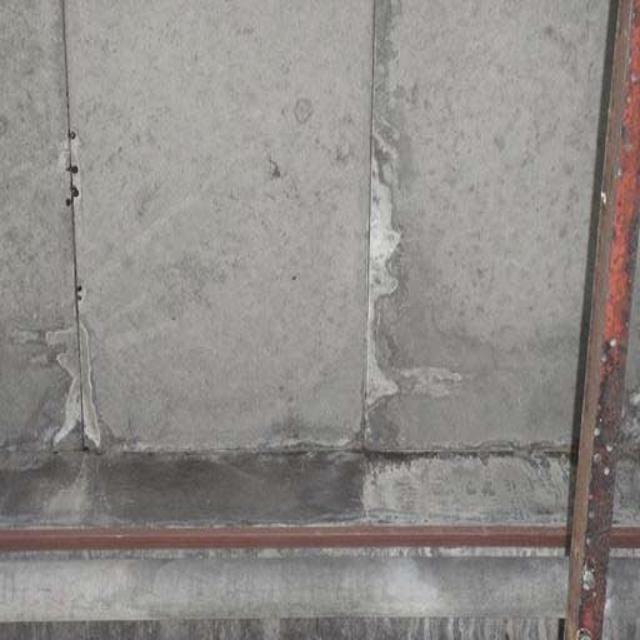freelime: (350, 160, 403, 420), (42, 313, 118, 457)
